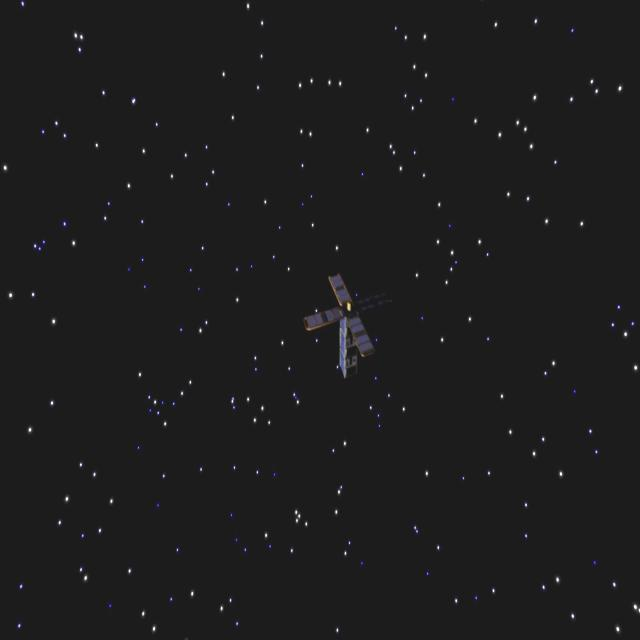satellite: (296, 273, 382, 383)
